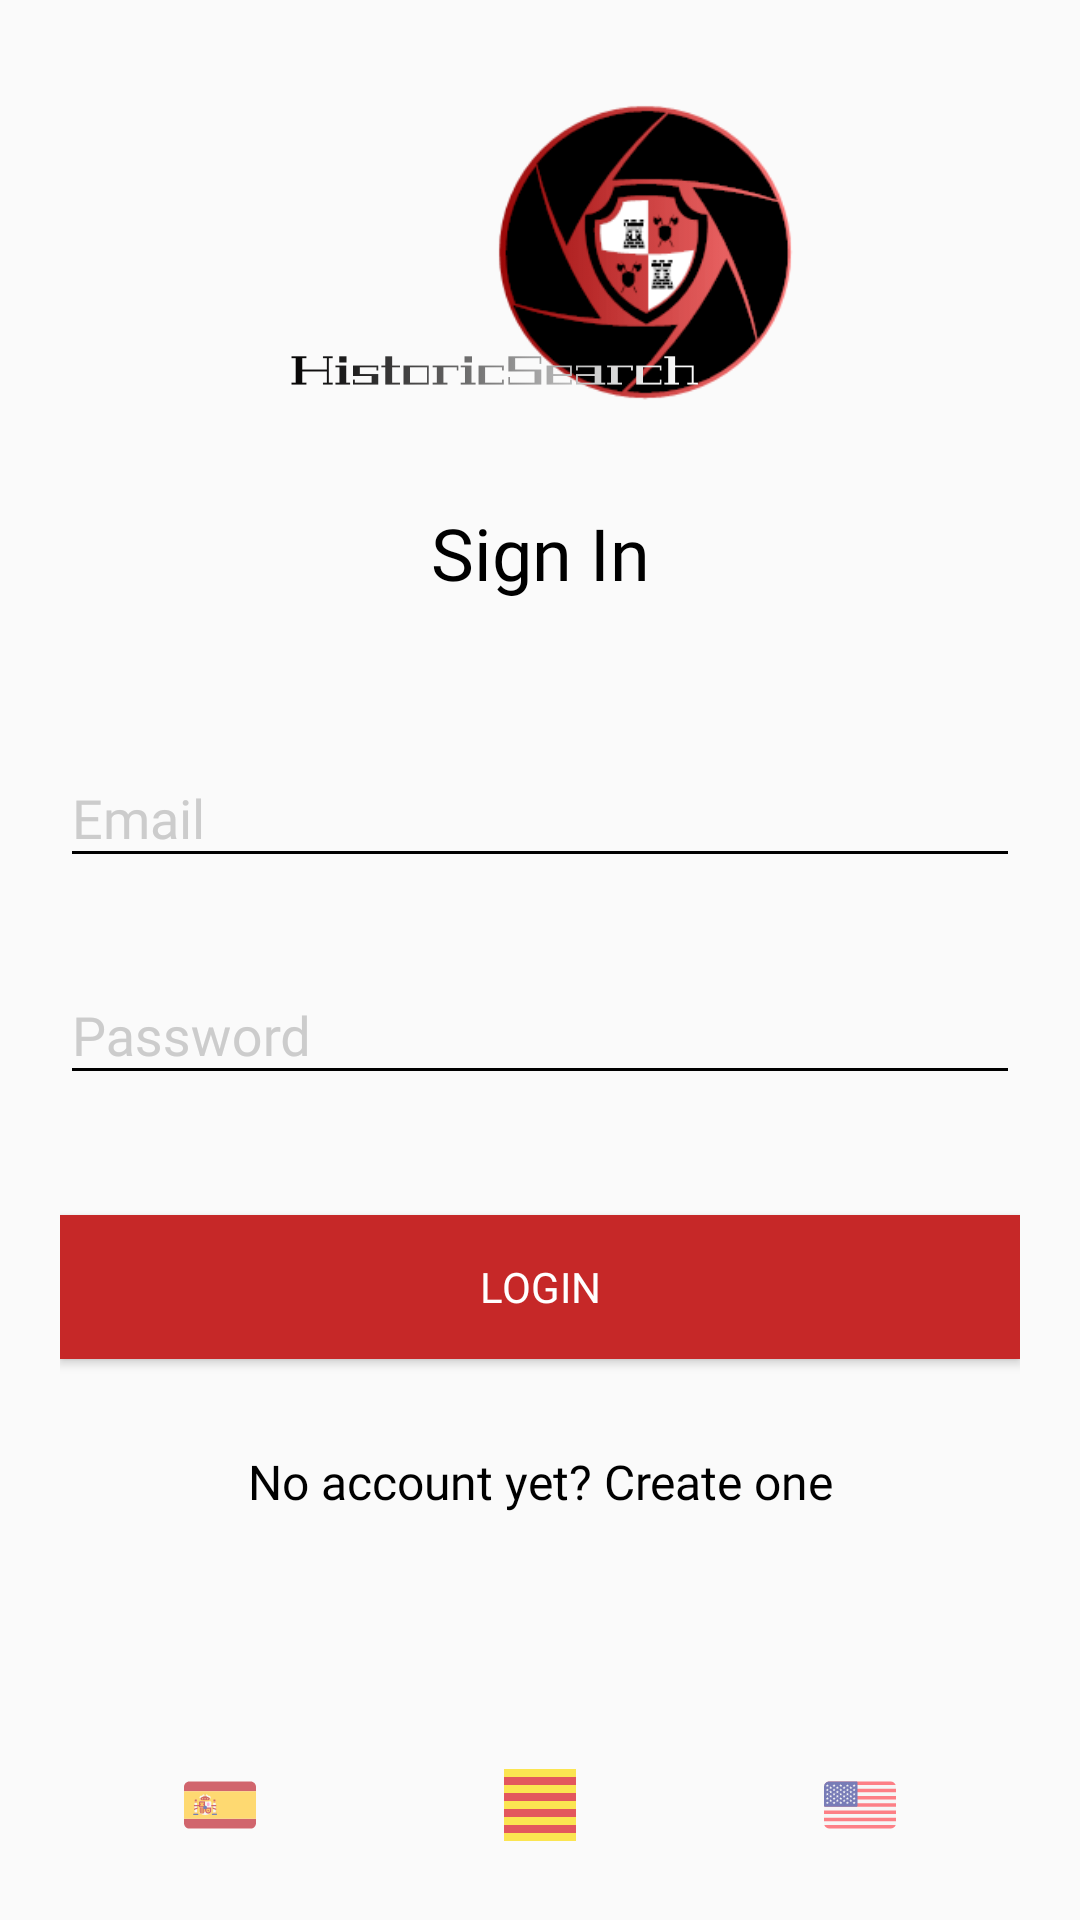

Point at icon controls on the screen. Image size 1080 × 1920, points as (x,y).
estados unidos: (860,1805)
flag of catalonia: (540,1805)
spain: (220,1805)
